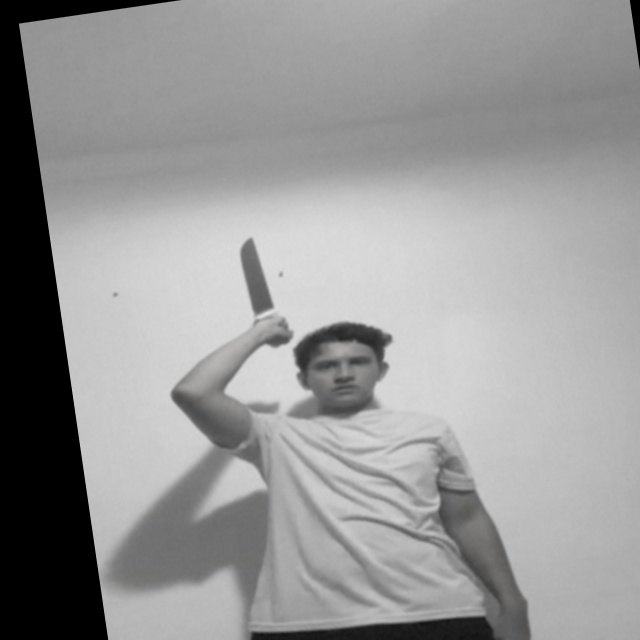Sharp-Object: (233, 230, 274, 316)
